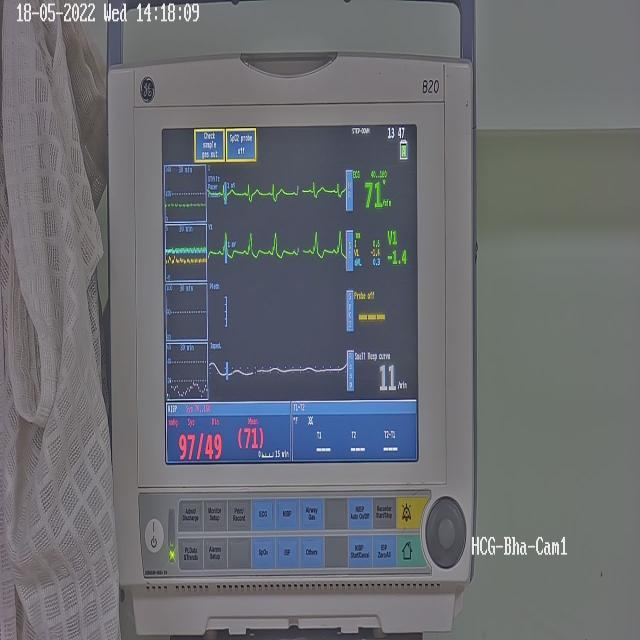Monitor: (107, 49, 477, 632)
